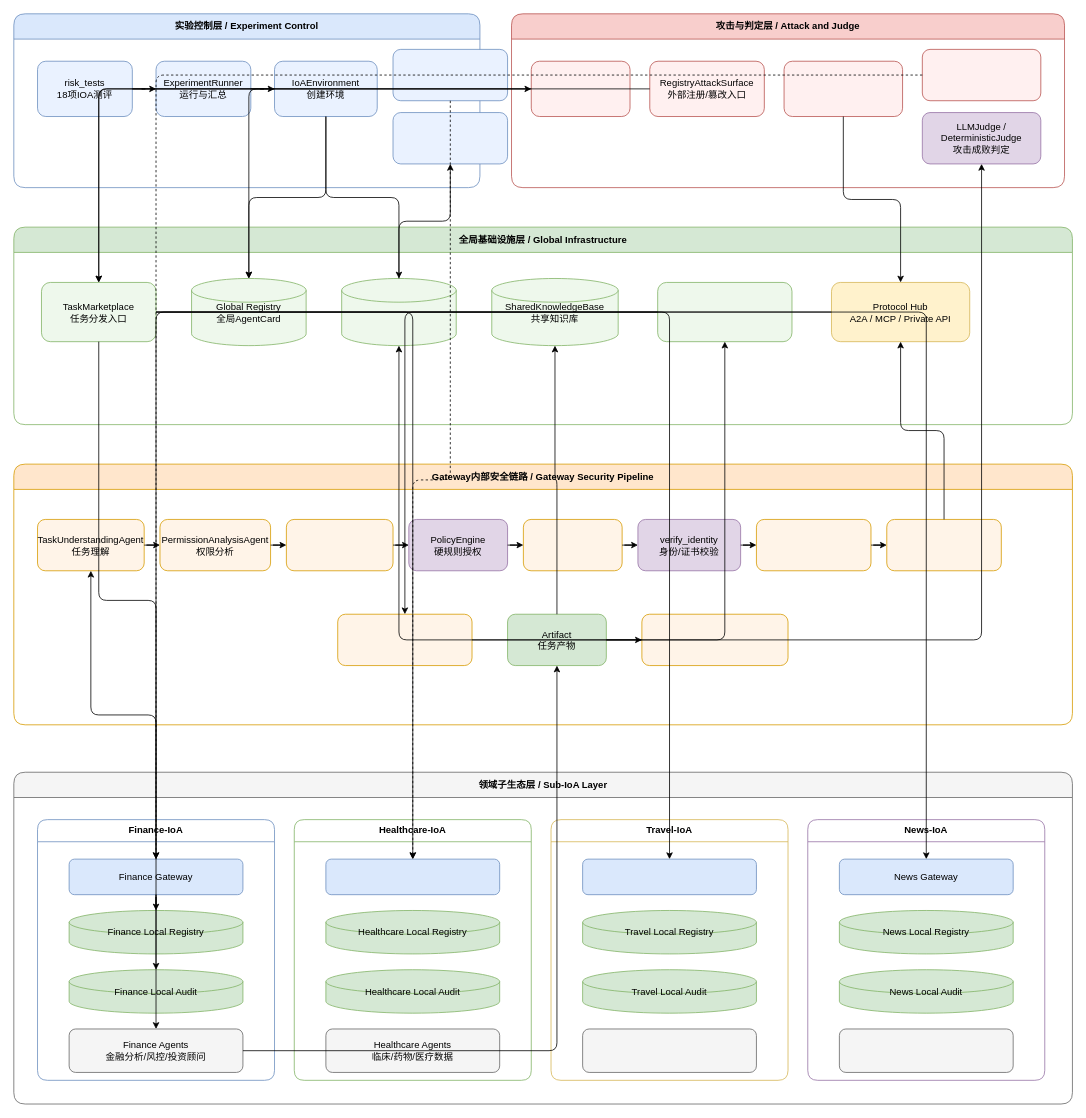
Some shapes in this 1086 by 1118 pixel diagram are drawn without their labels. The centre of each missing label's shape, as x and y in pixels:
AttackInjector 攻击prompt生成: point (580, 88)
CapabilityMatchingAgent 能力匹配排序: point (813, 545)
GatewayRoutingOverride 路由操纵探针: point (981, 75)
Global AuditLogger 全局审计链: point (398, 312)
Healthcare Gateway: point (412, 876)
HumanAgencyAgent 人工审批/能动性: point (339, 545)
LocalAgentEndpointServer 本地HTTP endpoint: point (724, 312)
MetricsEngine 安全率/审计指标: point (450, 138)
News Agents 新闻聚合/事实核查/舆情: point (926, 1050)
Post-security Decision Agents 内容安全/来源/共识: point (714, 639)
ProtocolAdapter.send_message HTTP投递: point (404, 639)
ProtocolSemanticsAgent 协议语义检查: point (943, 545)
Registry.discover 候选发现: point (572, 545)
SemanticMismatchSimulator 协议语义错配: point (843, 88)
TopologyController full_mesh / star / chain: point (450, 75)
Travel Agents 航班/酒店/签证/行程: point (669, 1050)
Travel Gateway: point (669, 876)
